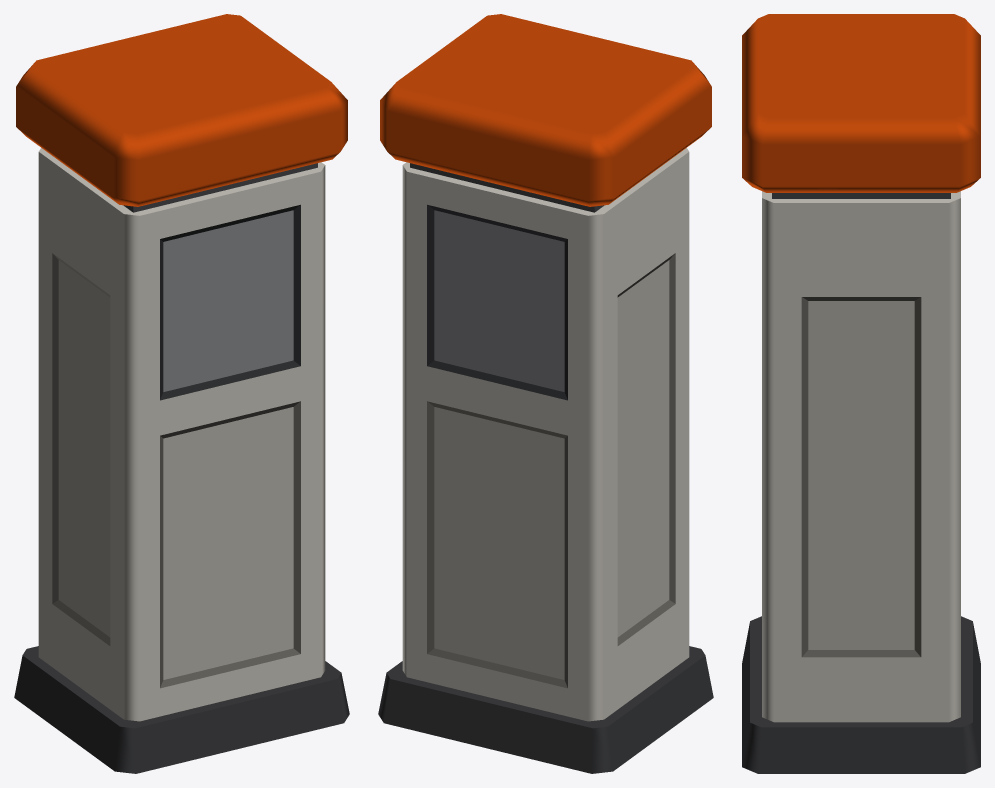
The model's file is fuel-pump-shell.glb.
3 views of the same model, side by side, from view 1: azimuth 30°, elevation 25°; view 2: azimuth 150°, elevation 25°; view 3: azimuth 270°, elevation 25° (orthographic). The views are drawn at different scales.
Visible parts, largest first — view 1: Fuel-pump-shellBody; view 2: Fuel-pump-shellBody; view 3: Fuel-pump-shellBody.
Part boxes in pixels (bbox=[...]): Fuel-pump-shellBody: bbox=[14, 14, 349, 773]; Fuel-pump-shellBody: bbox=[378, 14, 713, 773]; Fuel-pump-shellBody: bbox=[742, 14, 980, 773].
Size of the model in its own units: 0.7 by 1.8 by 0.6.
